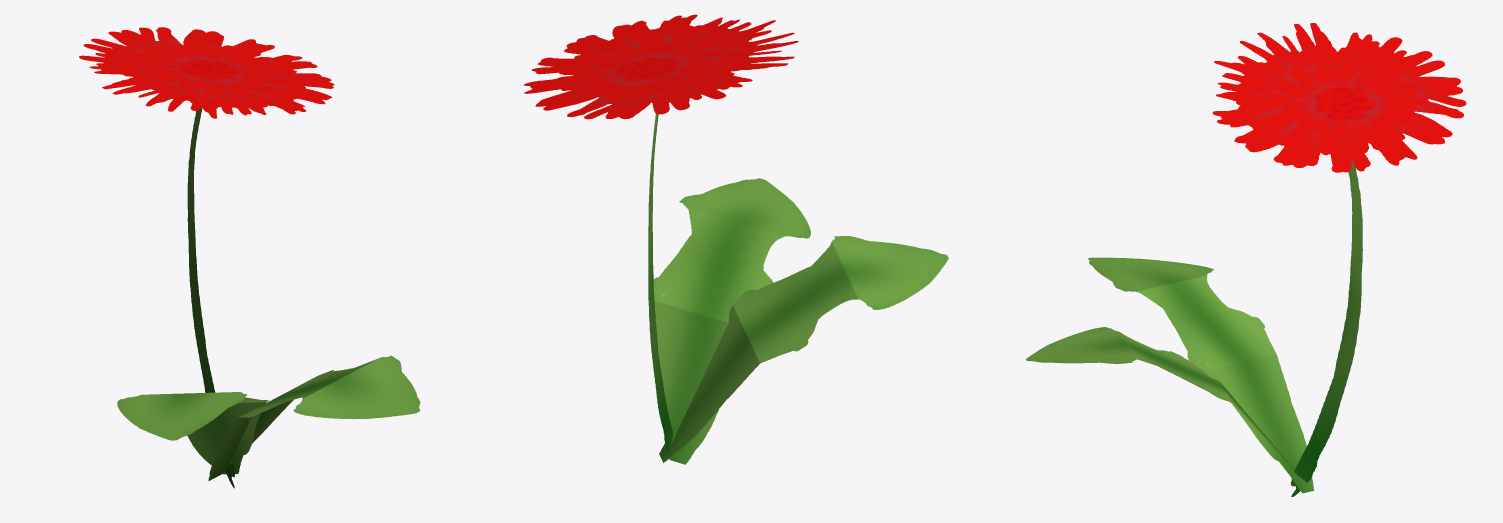
File: FRM0210005.fbx
3 renders of one model, left to right at view 1: azimuth 30°, elevation 25°; view 2: azimuth 150°, elevation 25°; view 3: azimuth 270°, elevation 25°, orthographic. The views are drawn at different scales.
Parts seen in each view (by area): view 1: smFRM0210005; view 2: smFRM0210005; view 3: smFRM0210005.
Boxes of the visible parts, x1=… form: smFRM0210005: x1=79, y1=27, x2=420, y2=488; smFRM0210005: x1=524, y1=14, x2=948, y2=464; smFRM0210005: x1=1025, y1=23, x2=1466, y2=496.
Size of the model in its own units: 18.09 by 21.73 by 22.31.
1 material, 1 textured.
